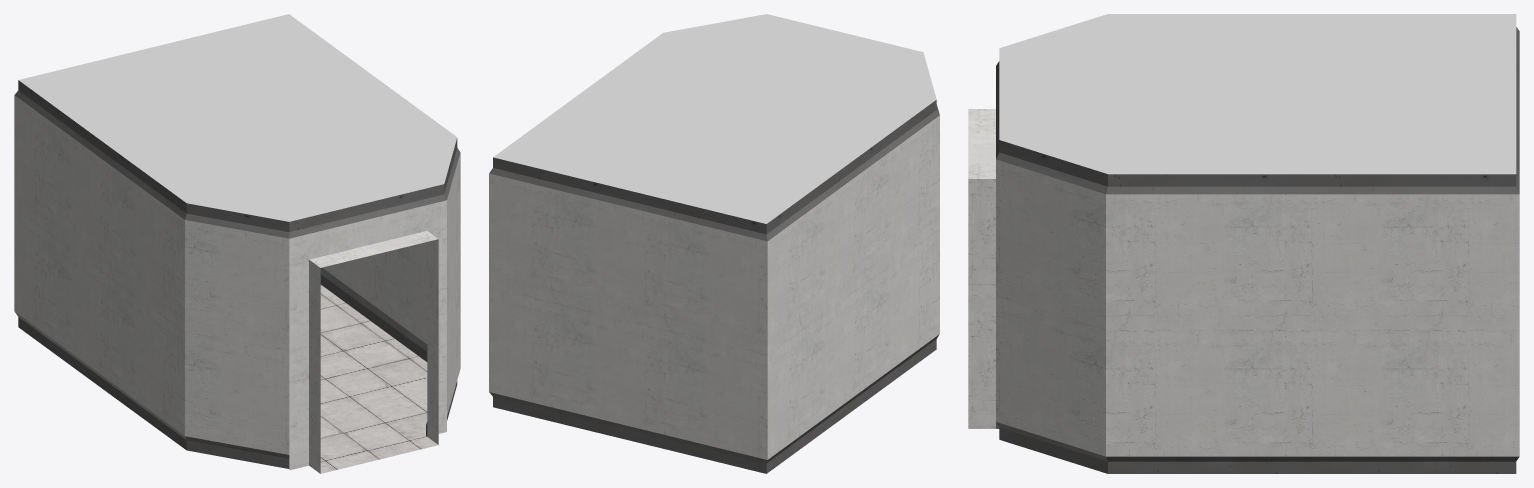
Rendered from Cont173_Intro_PlayerCell.fbx.
The picture shows the model from 3 angles, left to right: view 1: azimuth 30°, elevation 25°; view 2: azimuth 150°, elevation 25°; view 3: azimuth 270°, elevation 25°; orthographic projection. The views are drawn at different scales.
Visible parts, largest first — view 1: CBRoom; view 2: CBRoom; view 3: CBRoom.
Boxes of the visible parts, x1,y1,x2,y2 form: CBRoom: [14, 14, 460, 473]; CBRoom: [489, 14, 939, 473]; CBRoom: [968, 14, 1519, 473].
Bounding box in the file's own units: 448 × 384 × 640.
